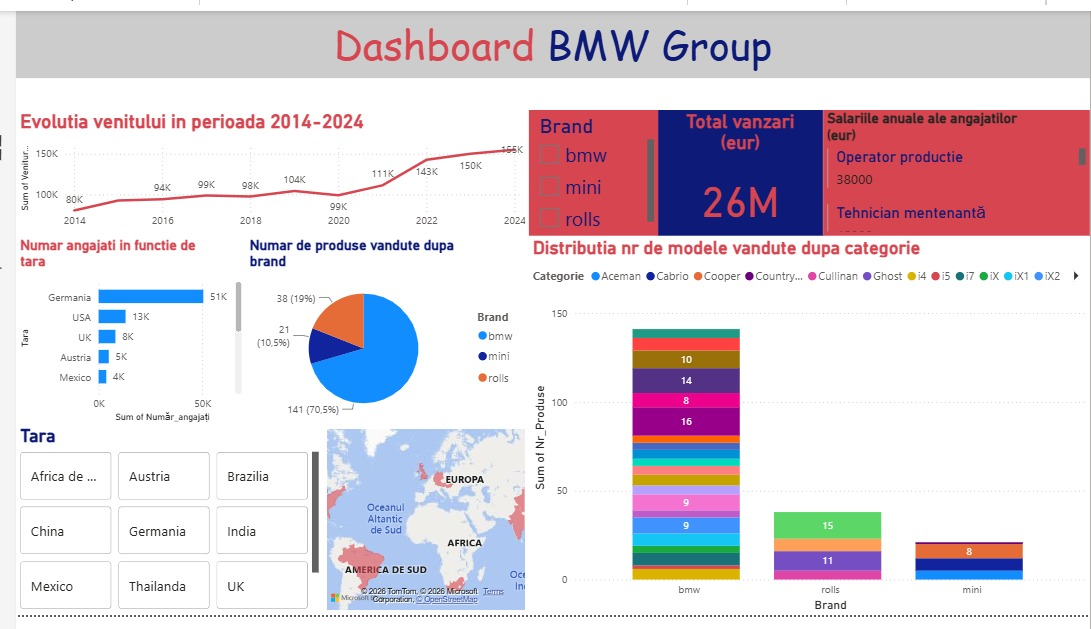

What the dashboard file says about the page in this screenshot:
{"tool":"powerbi","page":{"name":"Page 1","canvas":[1280,720],"ordinal":0},"visuals":[{"type":"textbox","box":[0,0,1280,80],"z":0},{"type":"lineChart","title":"Evolutia venitului in perioada 2014-2024","fields":{"Y":["Sum(Indicatori__316.Venituri total (€ mil))"],"Category":["Indicatori__316.An"]},"box":[0,118,612,150],"z":1},{"type":"pieChart","title":"Numar de produse vandute dupa brand","fields":{"Y":["Sum(Vânzări__3.Nr_Produse)"],"Series":["Produse__3.Brand"]},"box":[274,268,338,226],"z":2},{"type":"clusteredBarChart","title":"Numar angajati in functie de tara","fields":{"Y":["Sum(Locații__3.Număr_angajați)"],"Category":["Locații__3.Tara"]},"box":[0,268,274,226],"z":3},{"type":"columnChart","title":"Distributia nr de modele vandute dupa categorie","fields":{"Category":["Produse__3.Brand"],"Series":["Produse__3.Categorie"],"Y":["Sum(Vânzări__3.Nr_Produse)"]},"box":[612,268,668,452],"z":4},{"type":"filledMap","fields":{"Category":["Locații__3.Tara"]},"box":[366,494,246,226],"z":5},{"type":"advancedSlicerVisual","fields":{"Values":["Locații__3.Tara"]},"box":[0,494,366,226],"z":6},{"type":"slicer","fields":{"Values":["Produse__3.Brand"]},"box":[612,118,154,150],"z":7},{"type":"card","title":"Total vanzari (eur)","fields":{"Values":["Sum(Query22.Valoare_tranz)"]},"box":[766,118,196,150],"z":8},{"type":"multiRowCard","title":"Salariile anuale ale angajatilor (eur)","fields":{"Values":["Joburi__3.Salariul_Anual","Joburi__3.Titlu_Job"]},"box":[962,118,318,150],"z":9}]}

Visuals, with their boxes in screenshot pixels (x1, y1, x2, y2), scaled from the page's 1280x720 canvas onto the 1091x629 screenshot:
textbox: rect(0, 0, 1090, 70)
"Evolutia venitului in perioada 2014-2024" lineChart: rect(0, 103, 522, 234)
"Numar de produse vandute dupa brand" pieChart: rect(234, 234, 522, 432)
"Numar angajati in functie de tara" clusteredBarChart: rect(0, 234, 234, 432)
"Distributia nr de modele vandute dupa categorie" columnChart: rect(522, 234, 1090, 628)
filledMap - Locații__3.Tara: rect(312, 432, 522, 628)
advancedSlicerVisual - Locații__3.Tara: rect(0, 432, 312, 628)
slicer - Produse__3.Brand: rect(522, 103, 653, 234)
"Total vanzari (eur)" card: rect(653, 103, 820, 234)
"Salariile anuale ale angajatilor (eur)" multiRowCard: rect(820, 103, 1090, 234)
